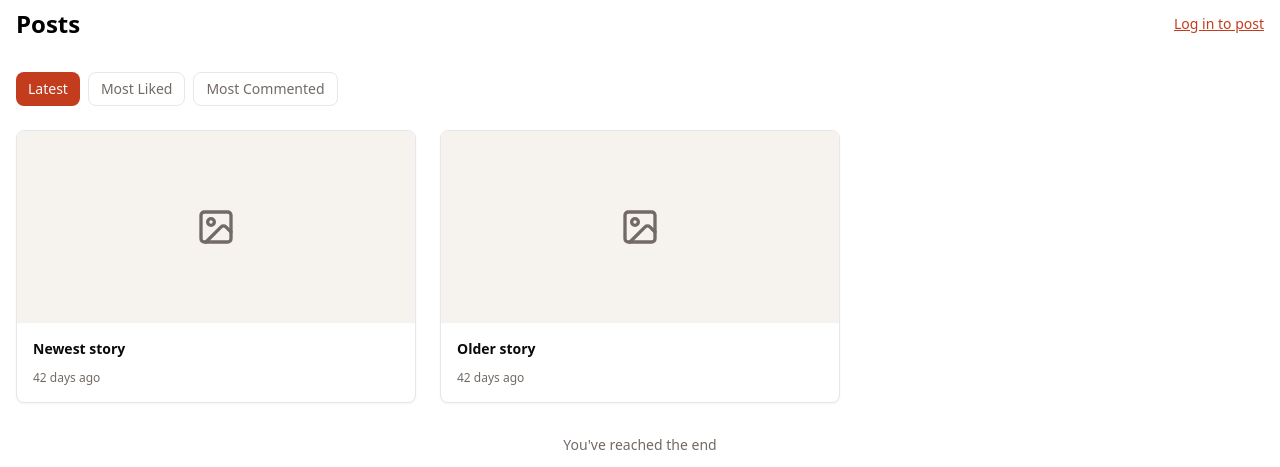
PostsPage › resets the list when the sort changes
Expected: the heading "Newest story" is shown, [33,339,125,358]
Expected: the heading "Older story" is shown, [457,339,536,358]
Click the button "Most Liked".
click(137, 89)  # box [88,72,185,106]
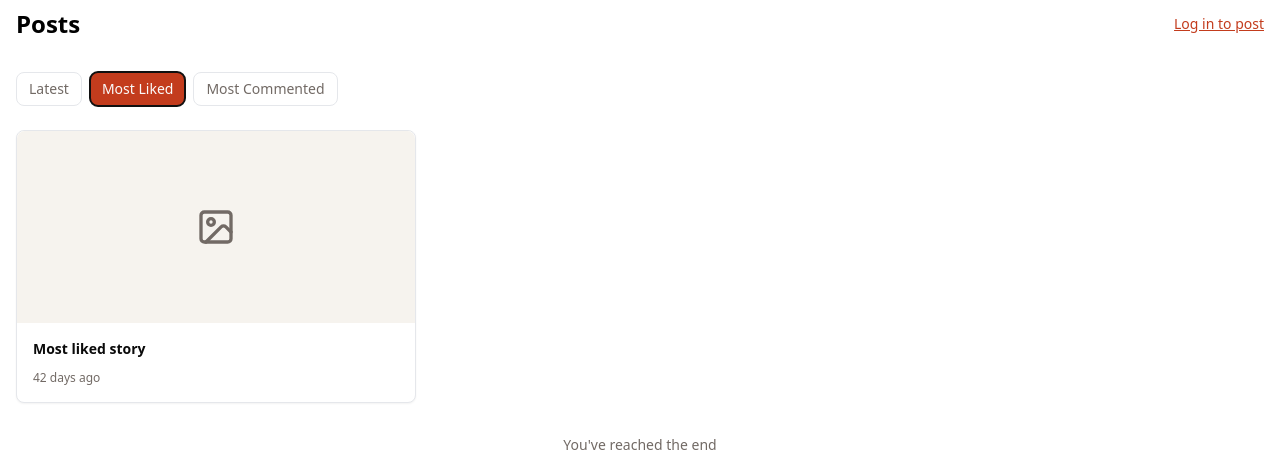
Expected: the heading "Most liked story" is shown, [33,339,146,358]
Expected: the link "Newest story" is gone
Expected: the link "Older story" is gone
